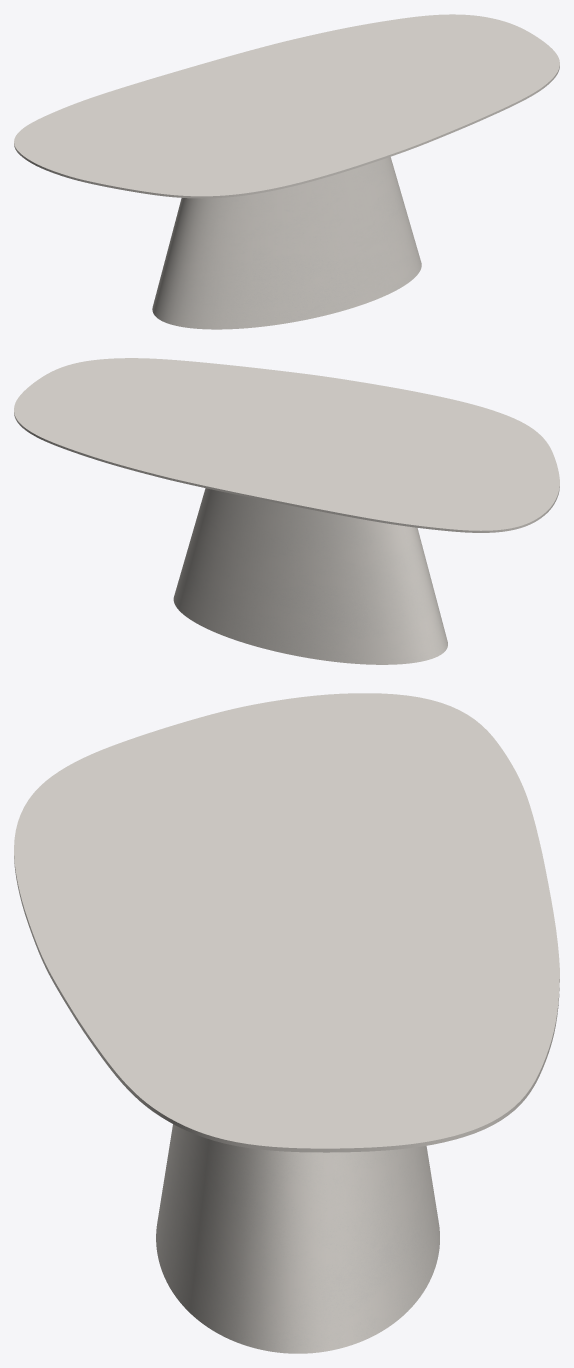
File: purewhite_leaf2_facet_eqone.glb
3 renders of one model, top to bottom at view 1: azimuth 30°, elevation 25°; view 2: azimuth 150°, elevation 25°; view 3: azimuth 270°, elevation 25°, orthographic. The views are drawn at different scales.
Visible parts, largest first — view 1: facet_leaf2, eqone; view 2: facet_leaf2, eqone; view 3: facet_leaf2, eqone.
Boxes of the visible parts, <box> form: facet_leaf2: <box>14,14,559,198</box>; eqone: <box>152,157,421,329</box>; facet_leaf2: <box>14,358,559,532</box>; eqone: <box>173,488,447,664</box>; facet_leaf2: <box>14,693,559,1152</box>; eqone: <box>156,1124,439,1353</box>.
Size of the model in its own units: 7.5 by 2.5 by 3.8.
Materials: 1 (1 with a texture image).
